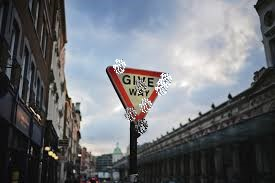giveway: (107, 64, 169, 129), (112, 66, 142, 120), (131, 68, 156, 131), (115, 80, 160, 112), (137, 70, 162, 121)
